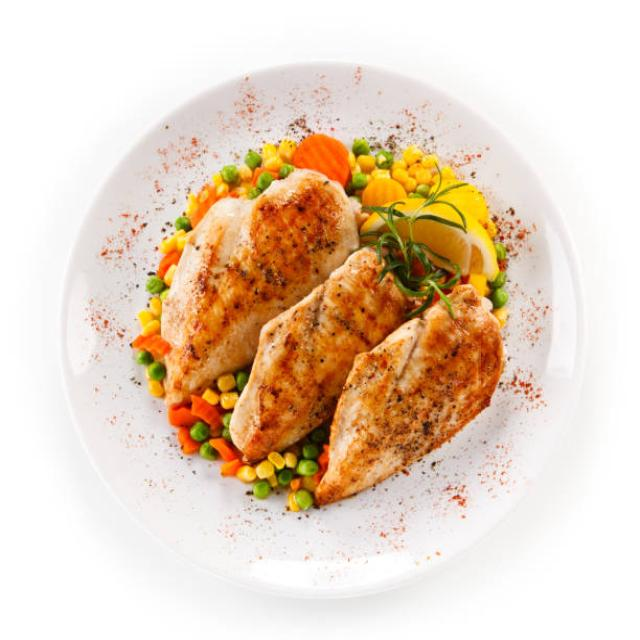Frango: (148, 167, 510, 509)
